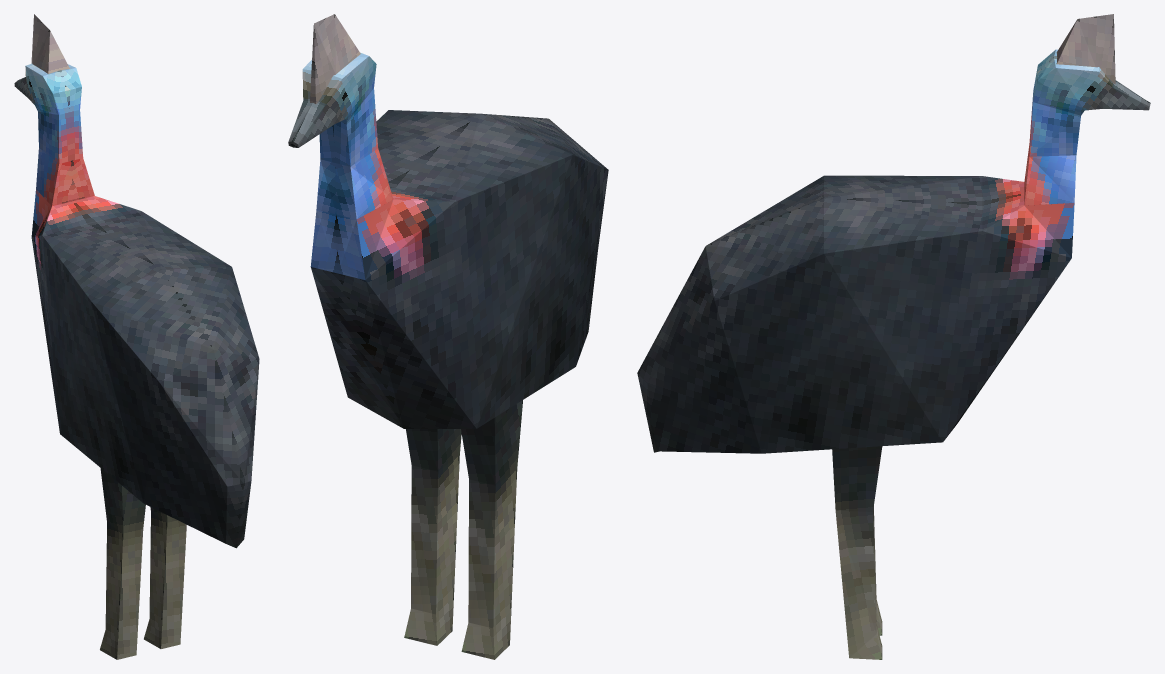
File: Cassowary_Cassowary.glb
The picture shows the model from 3 angles, left to right: view 1: azimuth 30°, elevation 25°; view 2: azimuth 150°, elevation 25°; view 3: azimuth 270°, elevation 25°; orthographic projection. The views are drawn at different scales.
Visible parts, largest first — view 1: Body, Leg1, Head, Leg2, Neck; view 2: Body, Leg1, Leg2, Head, Neck; view 3: Body, Head, Leg2, Neck.
Part boxes in pixels (left/top/right/bottom): Body: left=31, top=189, right=259, bottom=548; Leg1: left=100, top=468, right=145, bottom=659; Head: left=14, top=14, right=83, bottom=163; Leg2: left=144, top=507, right=186, bottom=648; Neck: left=36, top=148, right=94, bottom=206; Body: left=310, top=110, right=608, bottom=428; Leg1: left=461, top=400, right=522, bottom=659; Leg2: left=404, top=429, right=461, bottom=645; Head: left=288, top=14, right=377, bottom=166; Neck: left=316, top=148, right=393, bottom=219; Body: left=637, top=175, right=1074, bottom=453; Head: left=1029, top=14, right=1150, bottom=156; Leg2: left=832, top=446, right=882, bottom=659; Neck: left=1024, top=146, right=1076, bottom=205.
Size of the model in its own units: 0.5022 by 1.88 by 1.4.
Materials: 1 (1 with a texture image).
